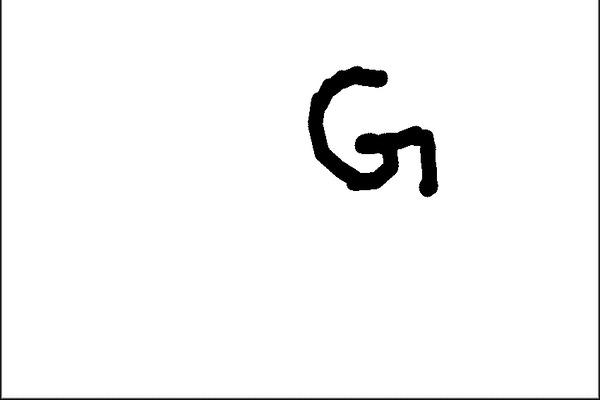G: (302, 61, 441, 201)
